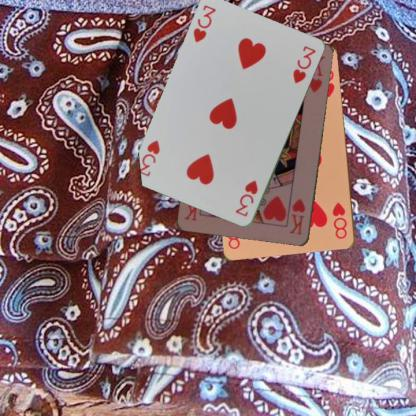3h: (191, 3, 217, 44), (233, 178, 259, 218)
8h: (330, 200, 348, 240)
Kh: (286, 196, 306, 236)
